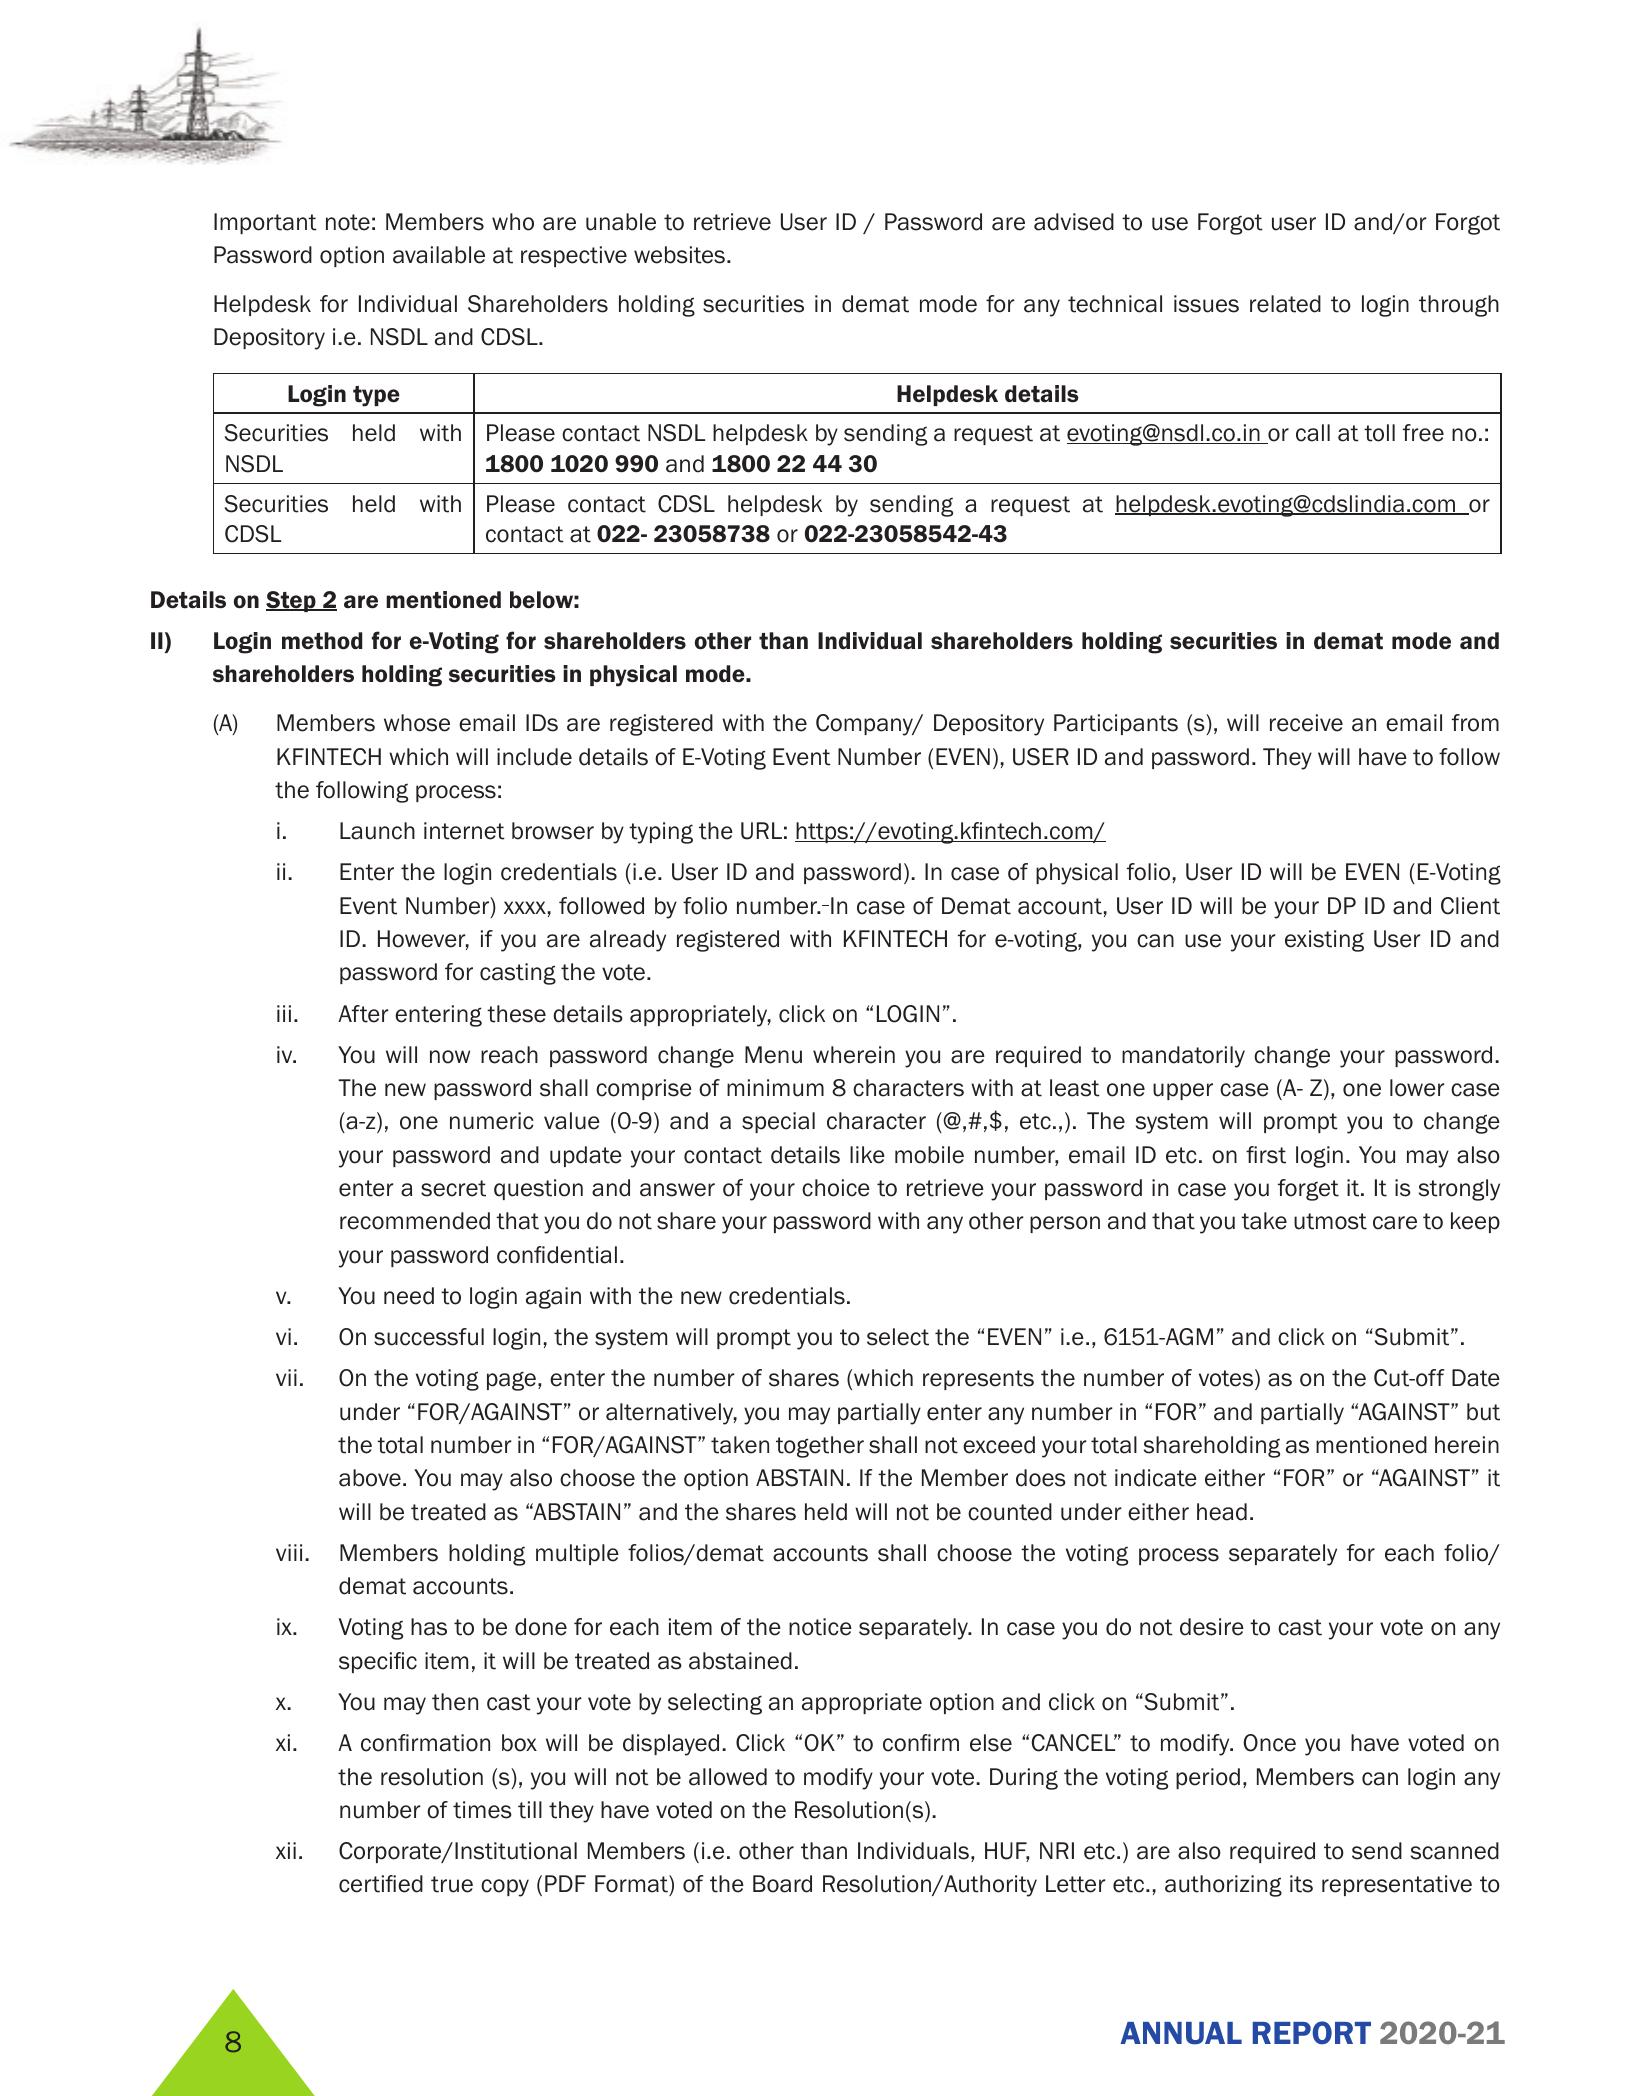Footer: (0, 1928, 1650, 2096)
Header: (0, 0, 1650, 180)
Table: (175, 347, 1548, 589)
